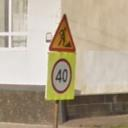speed_limit_40: (51, 57, 73, 95)
